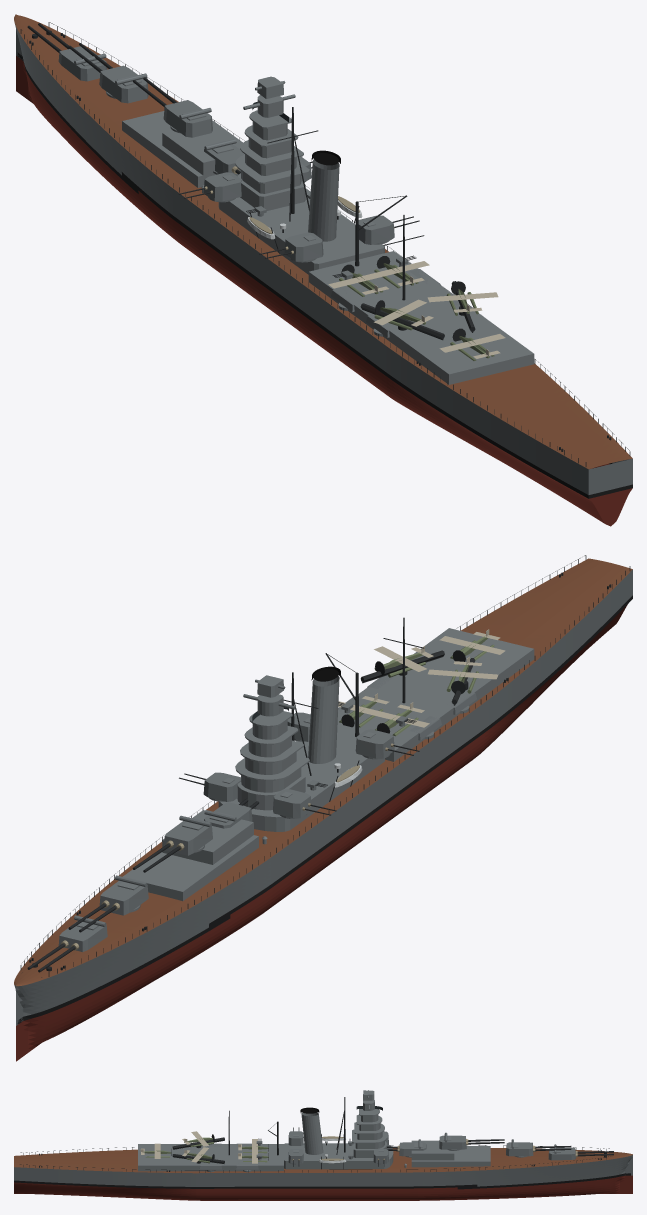
The model's file is tone.glb.
3 renders of one model, top to bottom at view 1: azimuth 30°, elevation 25°; view 2: azimuth 150°, elevation 25°; view 3: azimuth 270°, elevation 25°, orthographic. The views are drawn at different scales.
Visible parts, largest first — view 1: Hull, Turret3, Turret2, Turret1, Mount4, Mount2, Mount3, Turret4; view 2: Hull, Turret3, Turret2, Turret1, Mount4, Mount2, Mount1, Turret4; view 3: Hull, Turret3, Turret2, Turret1, Turret4, Mount3, Mount4, Mount1.
Part boxes in pixels (x1,y1,x2,y2): Hull: [14, 14, 632, 526]; Turret3: [133, 77, 212, 137]; Turret2: [68, 43, 148, 103]; Turret1: [27, 23, 107, 81]; Mount4: [259, 232, 323, 262]; Mount2: [179, 172, 241, 202]; Mount3: [358, 215, 419, 244]; Turret4: [204, 139, 244, 176]; Hull: [14, 555, 632, 1061]; Turret3: [132, 815, 212, 872]; Turret2: [68, 875, 148, 932]; Turret1: [27, 915, 107, 972]; Mount4: [355, 729, 419, 759]; Mount2: [273, 789, 336, 818]; Mount1: [179, 772, 240, 801]; Turret4: [204, 798, 259, 828]; Hull: [14, 1097, 632, 1200]; Turret3: [439, 1132, 504, 1150]; Turret2: [506, 1139, 571, 1157]; Turret1: [548, 1144, 613, 1160]; Turret4: [387, 1139, 426, 1157]; Mount3: [288, 1149, 303, 1166]; Mount4: [288, 1127, 303, 1145]; Mount1: [373, 1149, 388, 1166].
Bounding box in the file's own units: 30.4 × 36.79 × 204.
